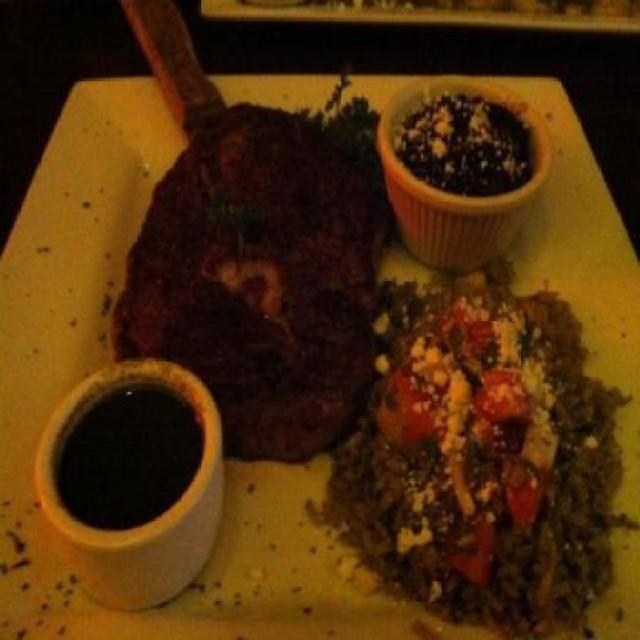Steak: (127, 130, 391, 452)
